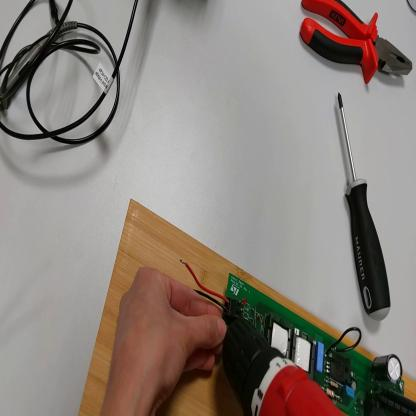electric screwdriver: (223, 316, 342, 416)
hand: (108, 266, 226, 414)
high voltage board: (181, 260, 415, 416)
oscilloscope probe tip: (2, 17, 79, 107)
pliers: (301, 3, 414, 87)
screwdriver-: (336, 92, 391, 322)
working area: (79, 200, 416, 416)
